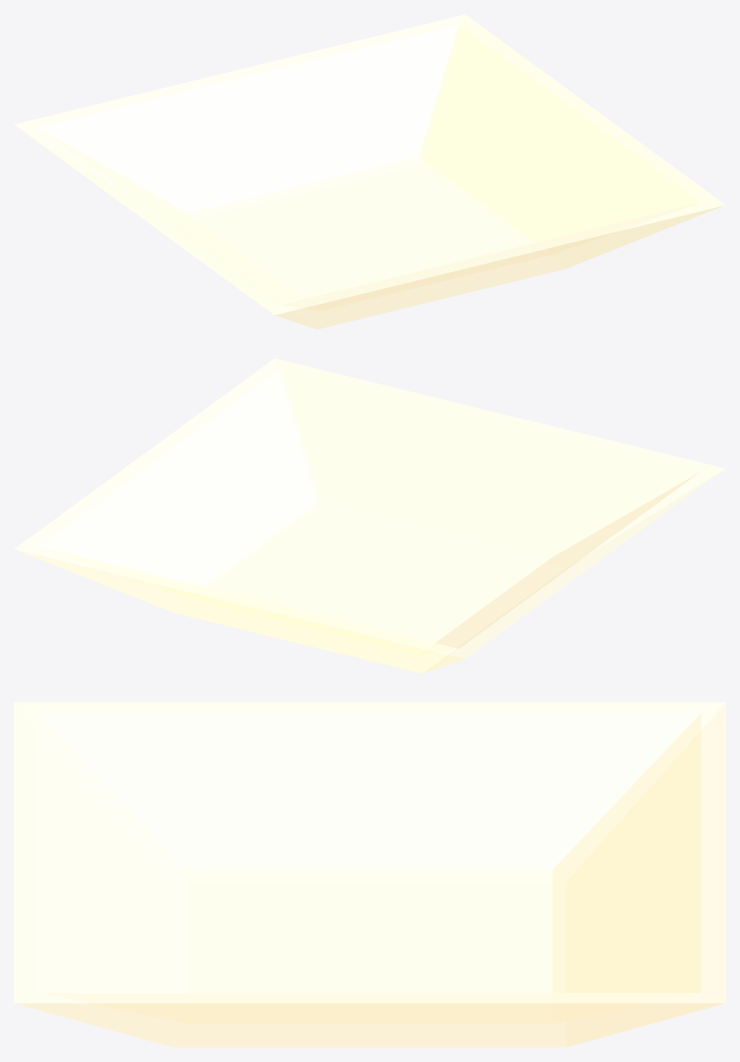
File: room.fbx
3 renders of one model, top to bottom at view 1: azimuth 30°, elevation 25°; view 2: azimuth 150°, elevation 25°; view 3: azimuth 270°, elevation 25°, orthographic. The views are drawn at different scales.
Visible parts, largest first — view 1: pCube1; view 2: pCube1; view 3: pCube1.
Boxes of the visible parts, box(x1,y1,x2,y2) form: pCube1: box(14, 14, 725, 329); pCube1: box(14, 358, 725, 673); pCube1: box(14, 702, 725, 1047).
Size of the model in its own units: 9.08 by 1.58 by 9.08.
